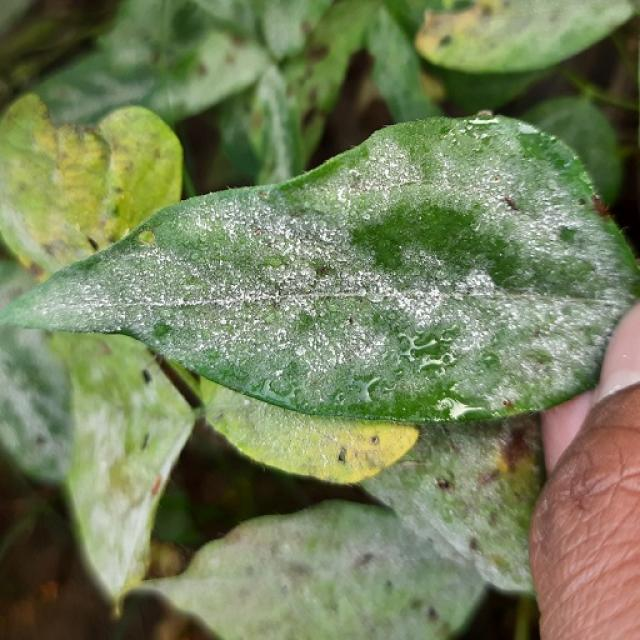Blackgram: (0, 116, 639, 424)
Powdery_Mildew: (314, 131, 581, 244), (350, 199, 534, 291), (323, 310, 480, 398), (253, 294, 410, 381), (226, 219, 364, 313), (481, 211, 614, 296), (323, 258, 469, 326), (315, 139, 442, 210), (530, 286, 636, 362), (28, 266, 151, 327), (254, 215, 346, 266), (510, 129, 582, 187), (333, 429, 395, 471), (252, 377, 311, 408), (443, 117, 510, 144), (269, 278, 287, 301), (261, 256, 284, 269), (261, 312, 278, 326), (184, 276, 201, 286)
